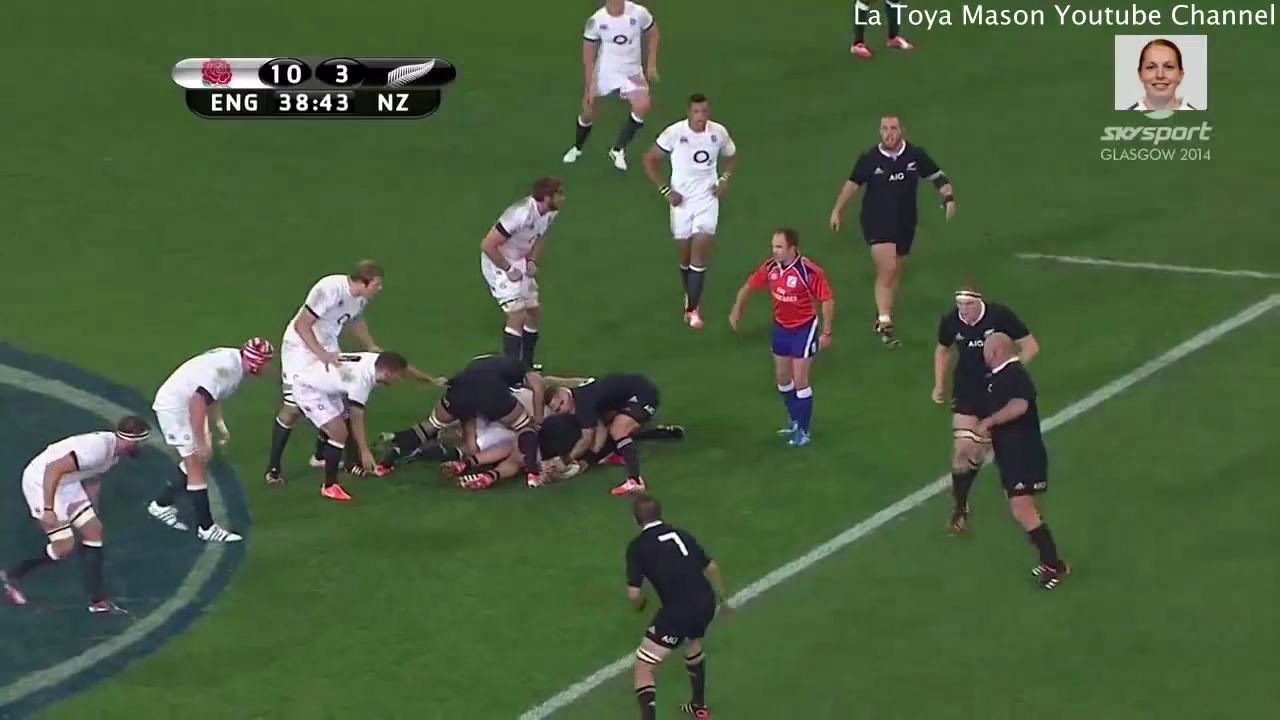player: (815, 111, 965, 356), (926, 274, 1049, 569), (253, 243, 384, 508), (145, 293, 278, 554), (1, 400, 153, 626), (720, 217, 850, 465), (610, 485, 739, 720), (976, 331, 1080, 609), (637, 84, 744, 343), (358, 330, 537, 484), (455, 159, 579, 377), (538, 360, 679, 505), (557, 1, 666, 176)
ruck: (381, 316, 701, 511)
